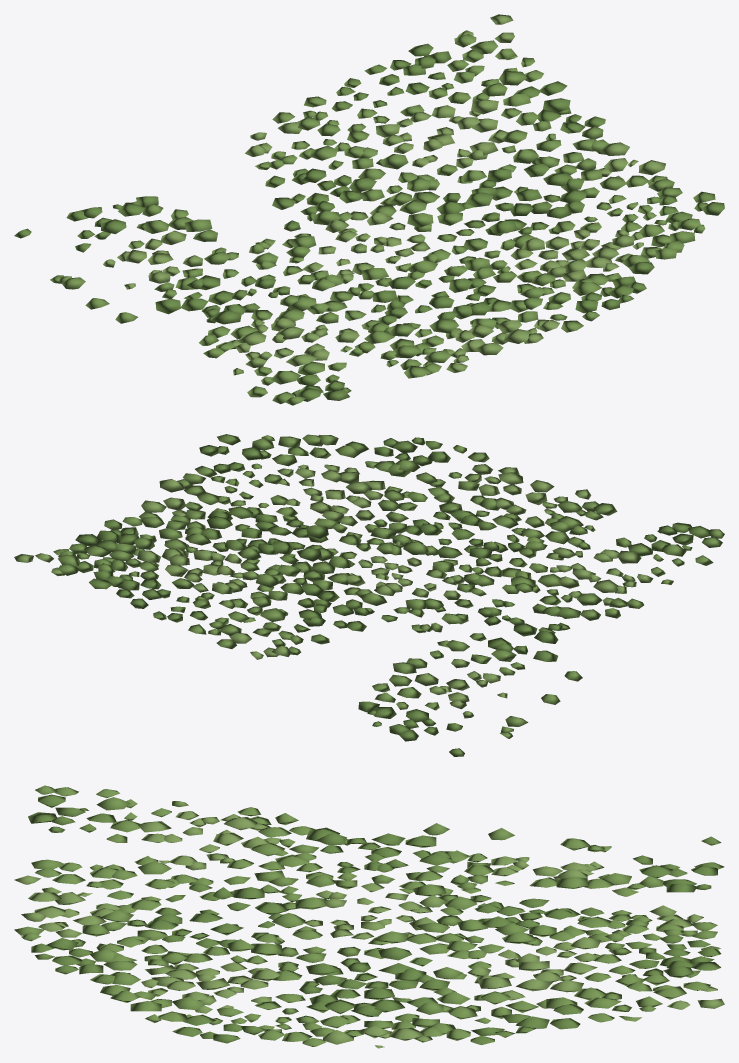
The model's file is canopy-1-0-5.glb.
3 renders of one model, top to bottom at view 1: azimuth 30°, elevation 25°; view 2: azimuth 150°, elevation 25°; view 3: azimuth 270°, elevation 25°, orthographic. The views are drawn at different scales.
Size of the model in its own units: 518 by 110 by 518.
Materials: 1 (1 with a texture image).
